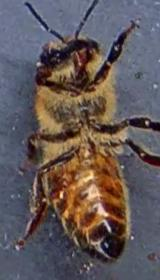varroa_mite: (41, 172, 75, 211)
